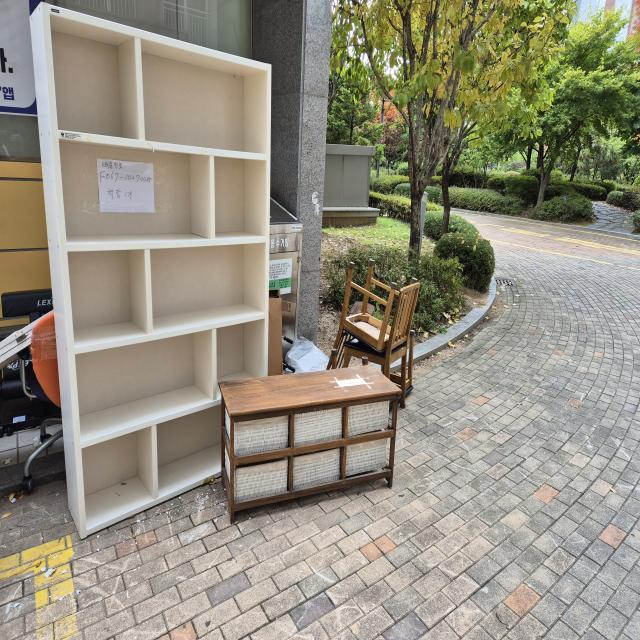Large Waste Items: (22, 1, 284, 512), (213, 352, 408, 522), (336, 251, 444, 397)
